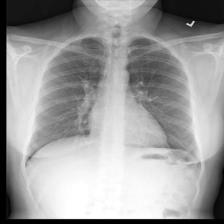normal: (22, 32, 204, 172)
